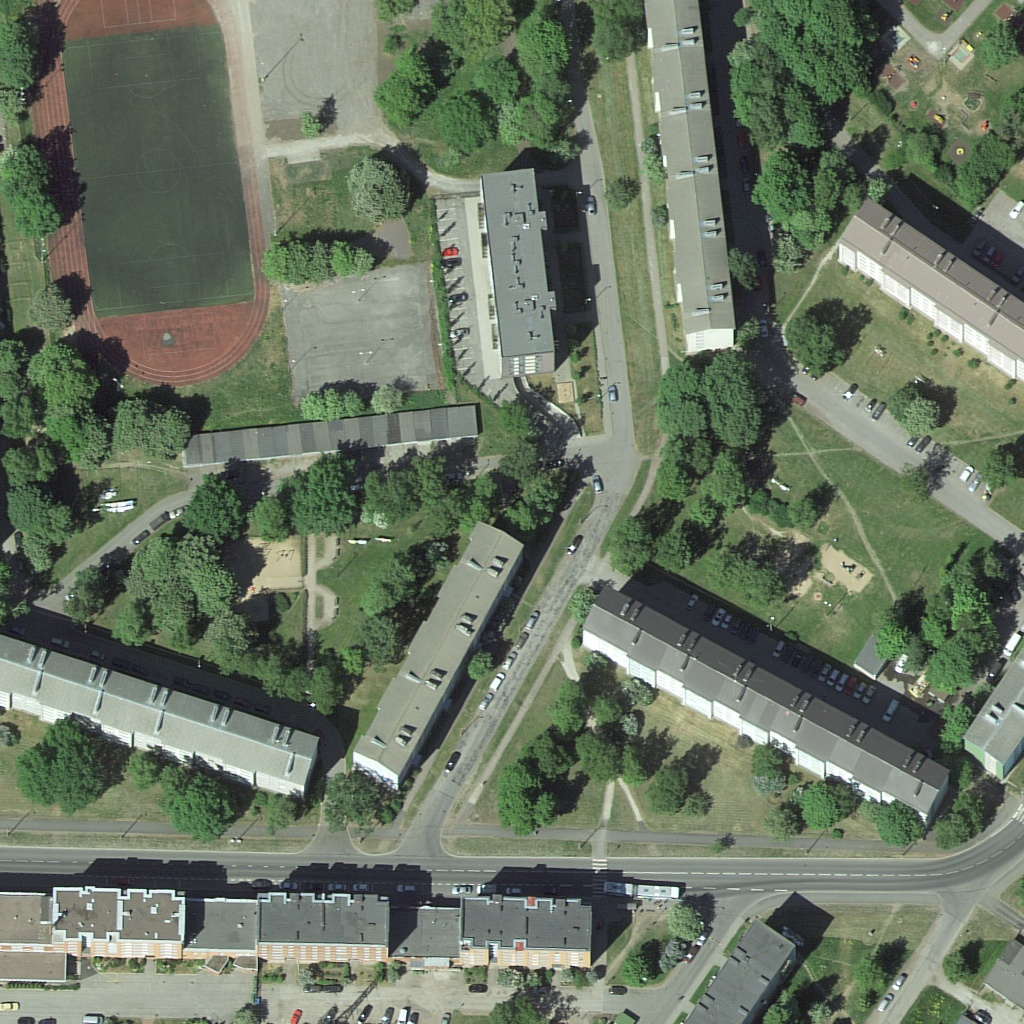building: (578, 582, 950, 825), (3, 635, 327, 799), (350, 516, 529, 791), (837, 196, 1024, 381), (642, 1, 740, 352), (475, 165, 563, 377), (688, 915, 797, 1024), (456, 891, 597, 970), (48, 886, 184, 964), (258, 888, 391, 966)
